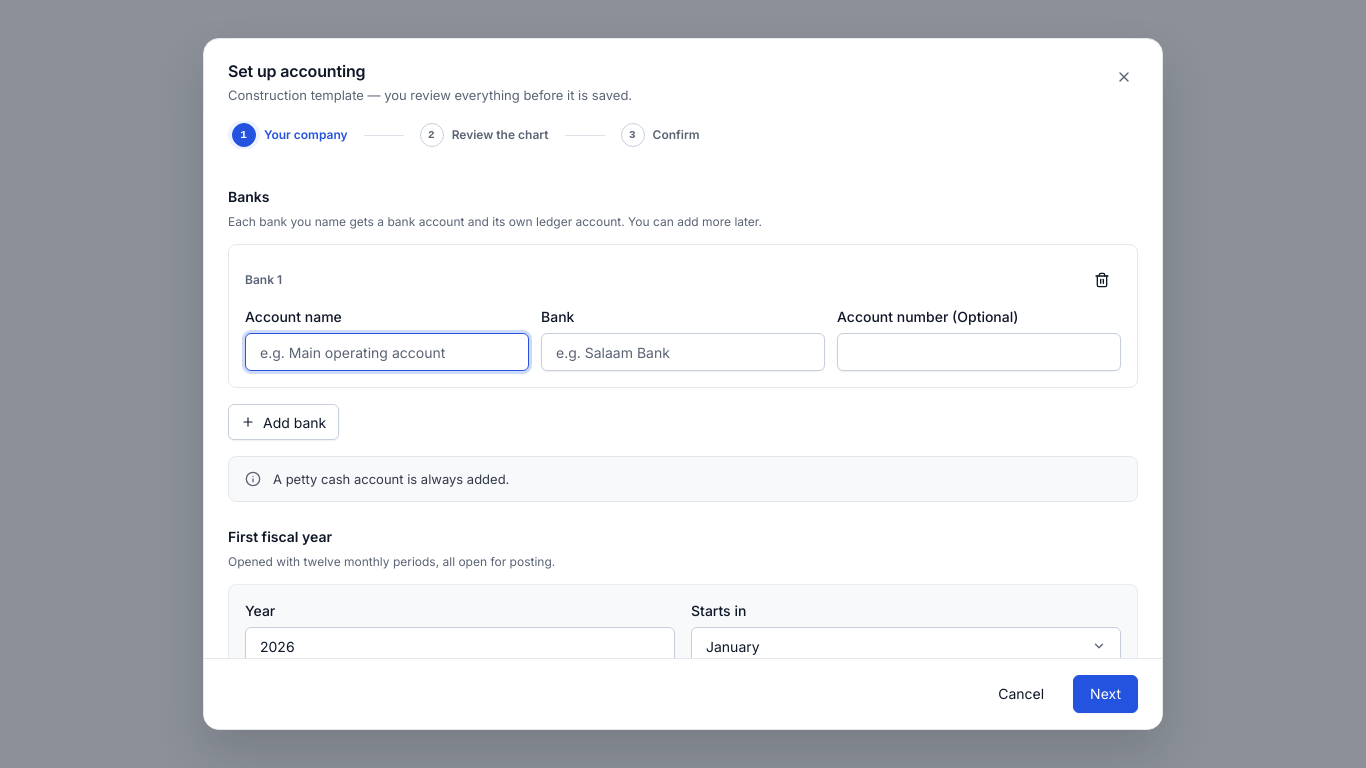
it: AccountingSetupDialog — step 1 › will not continue with an empty bank row
Click the button "Next": (1106, 694) [1073,675,1138,713]
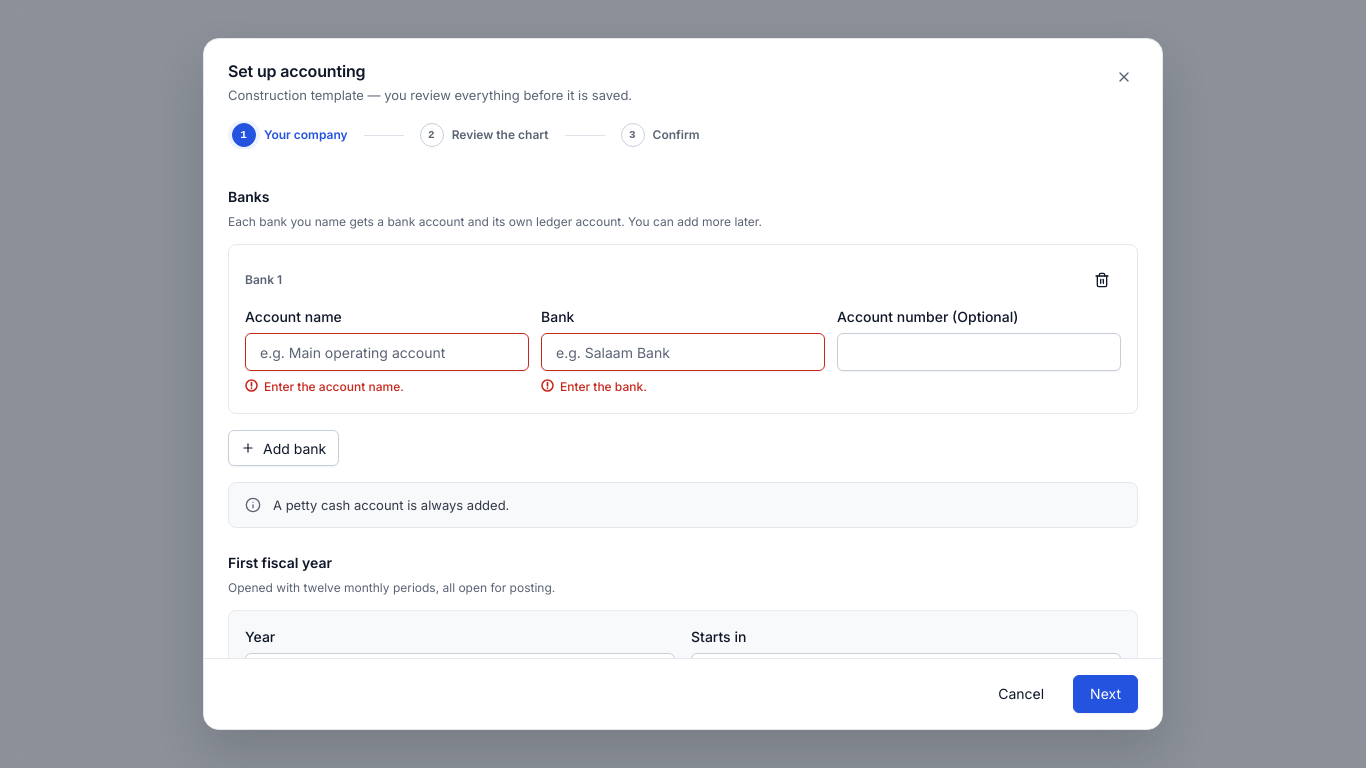
Check: the text "Enter the account name." is shown, box [245,379,404,394]
Check: the text "Enter the bank." is shown, box [541,379,647,394]
